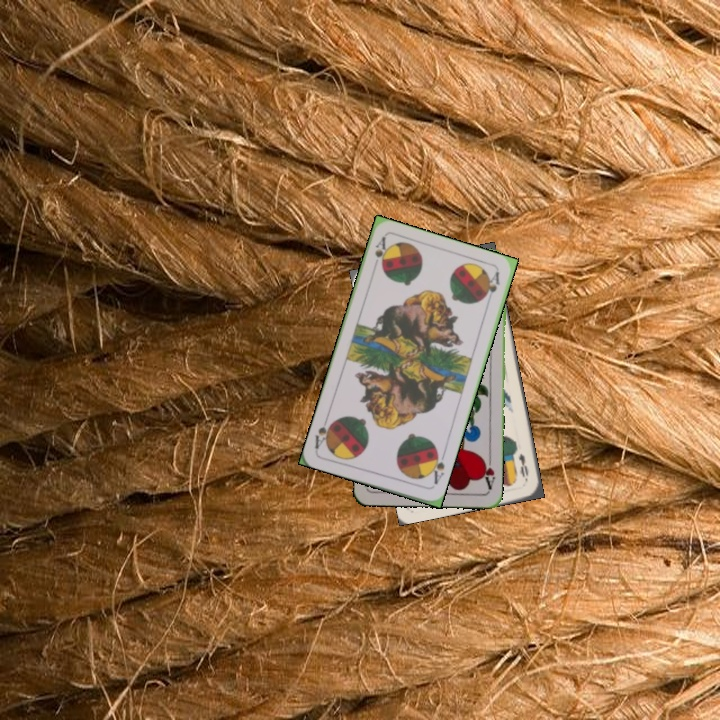EO: (515, 450, 531, 484)
HA: (478, 452, 498, 492)
SA: (425, 447, 447, 487), (369, 233, 390, 273)
